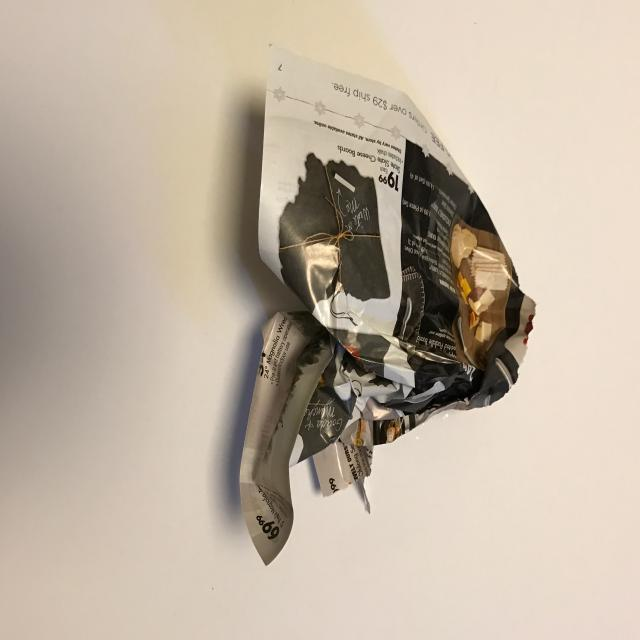paper: (236, 49, 536, 573)
